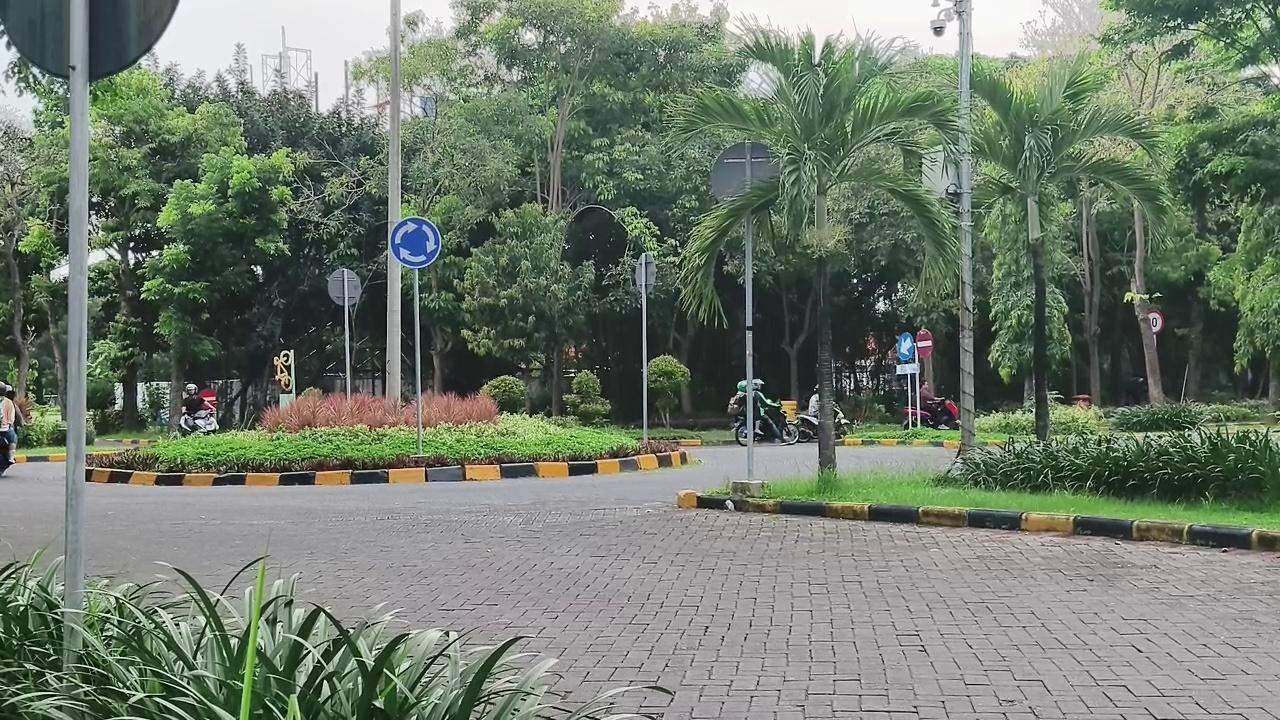Helmet: (753, 378, 781, 437), (180, 384, 213, 425), (806, 385, 819, 418)
Motor: (903, 398, 957, 429), (756, 408, 798, 444), (178, 409, 218, 436), (797, 413, 818, 442), (0, 434, 12, 475)
